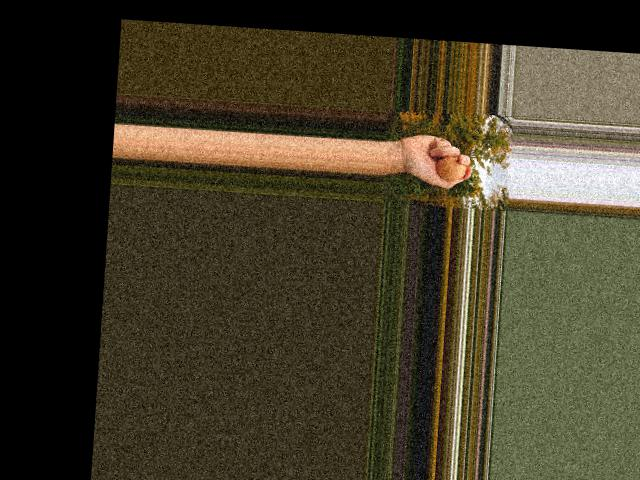egg: (436, 154, 466, 180)
